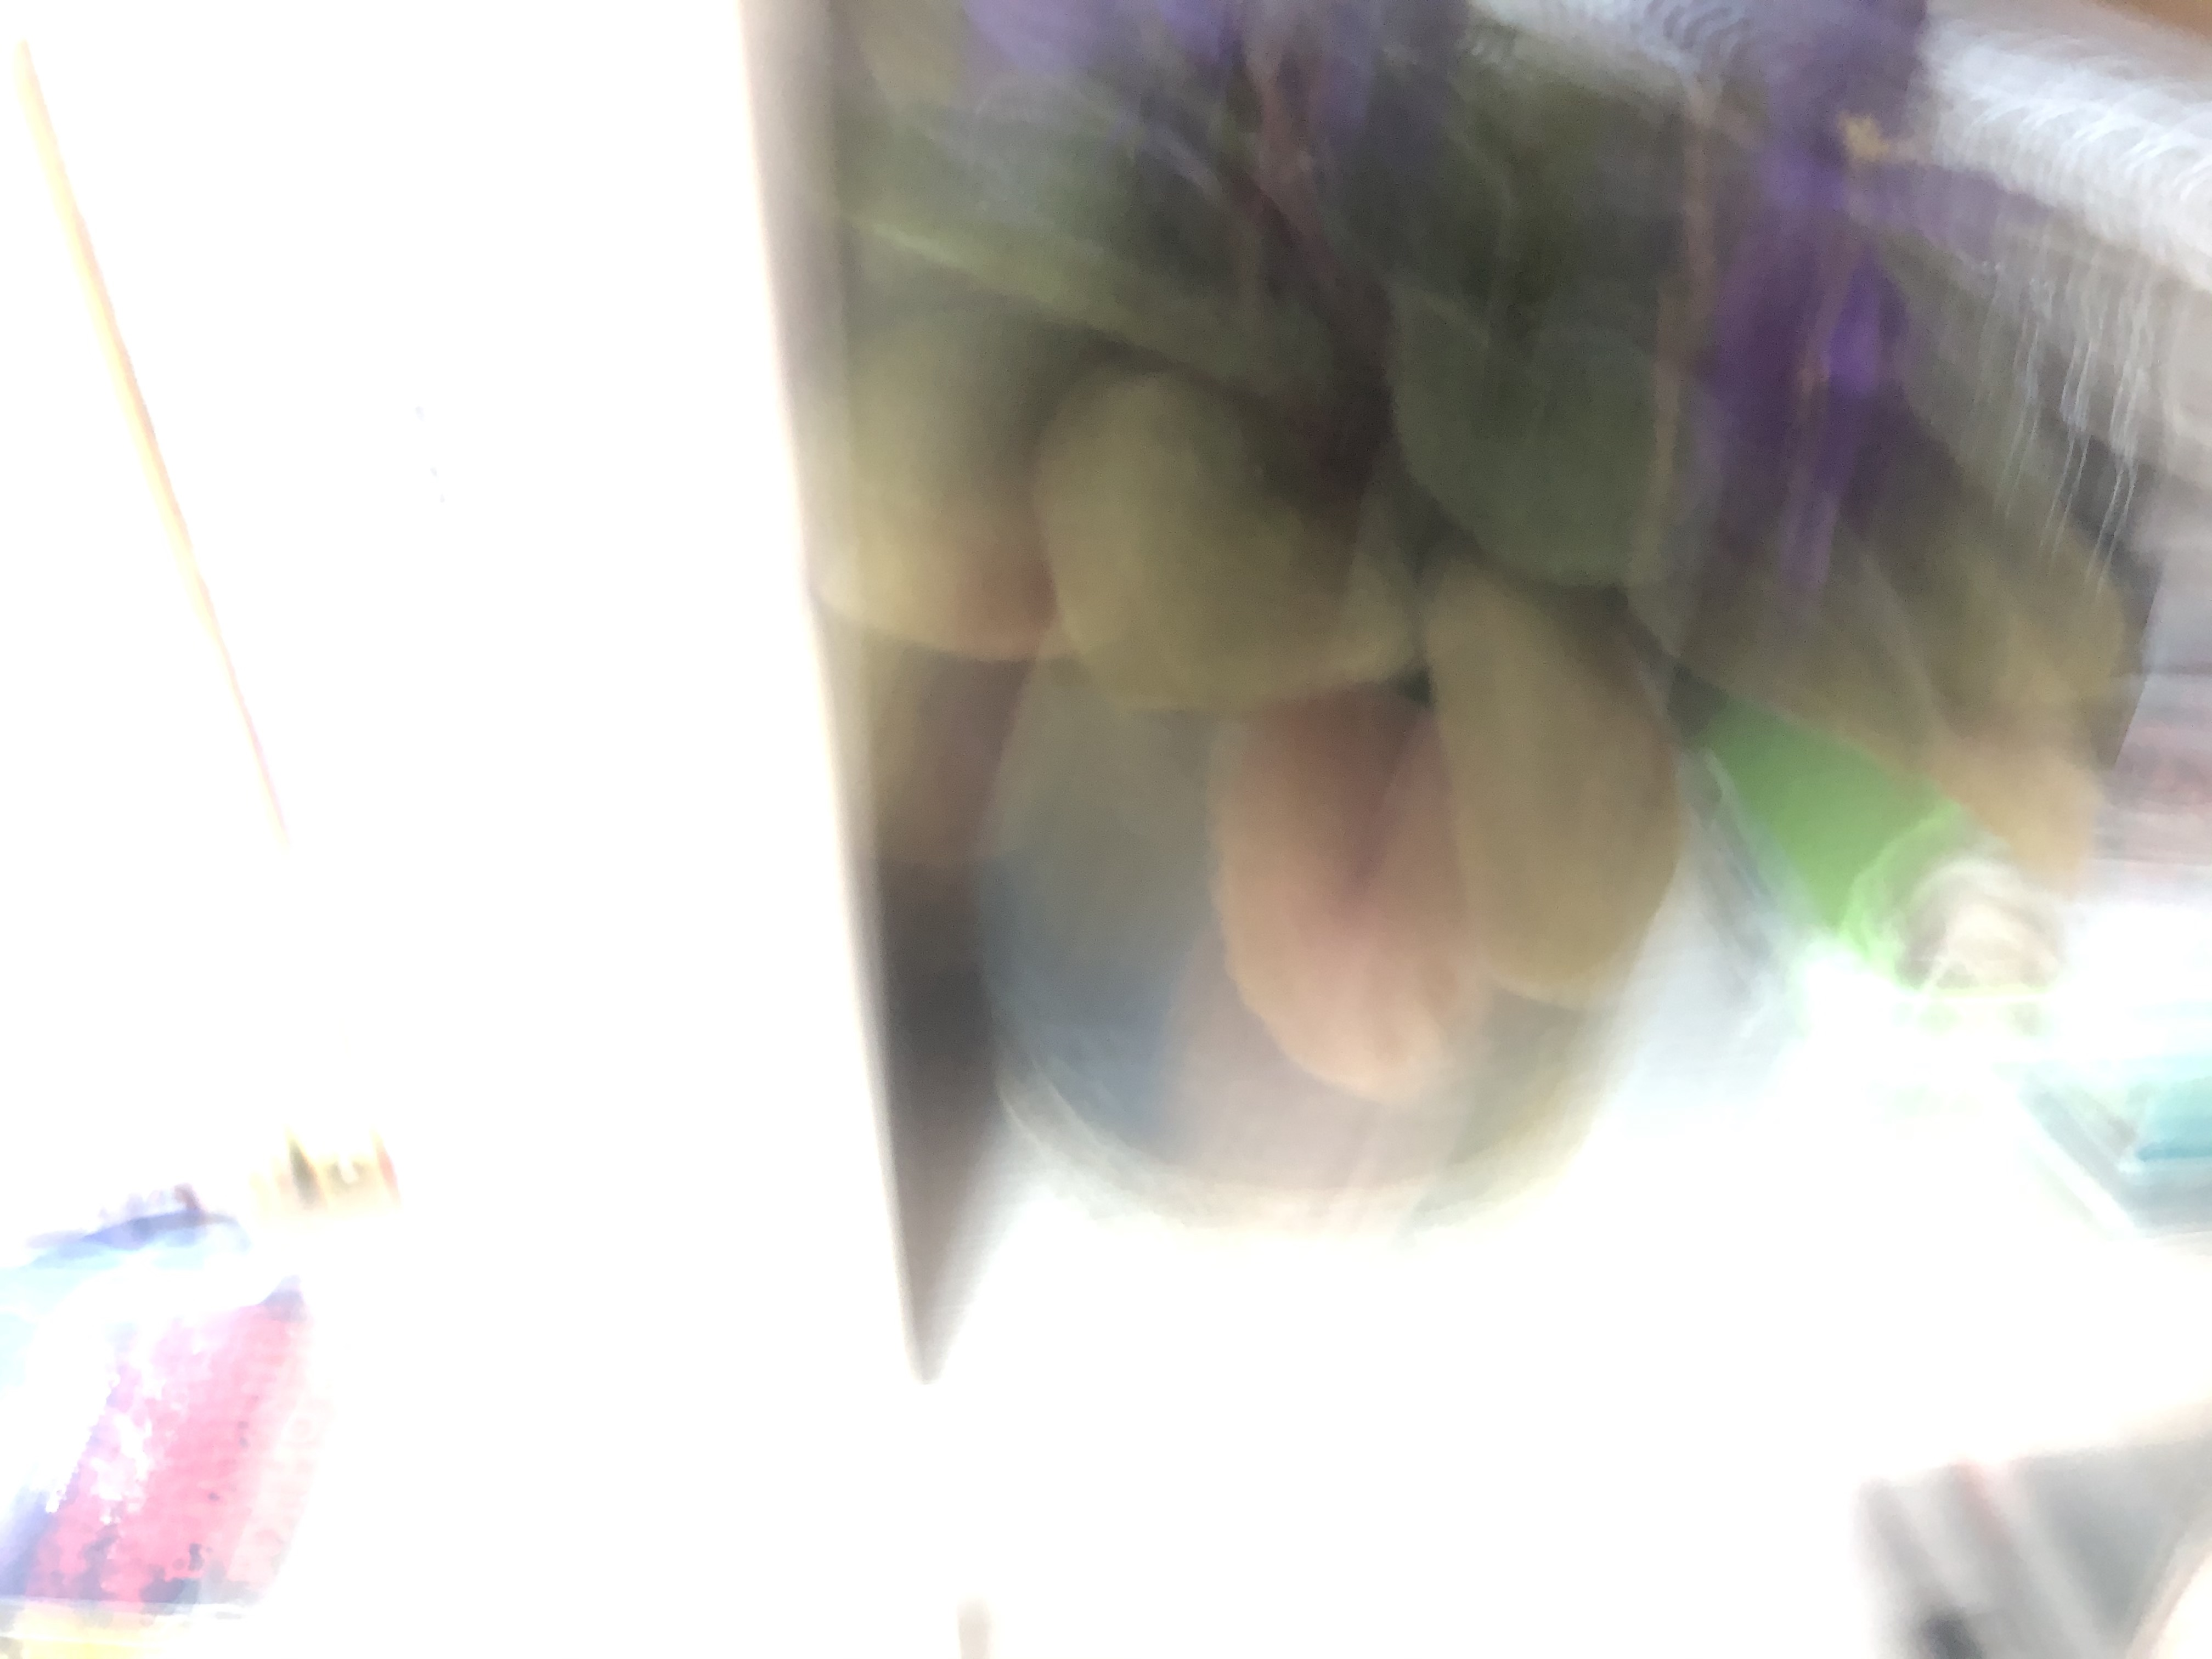ignore: (789, 9, 2006, 913)
